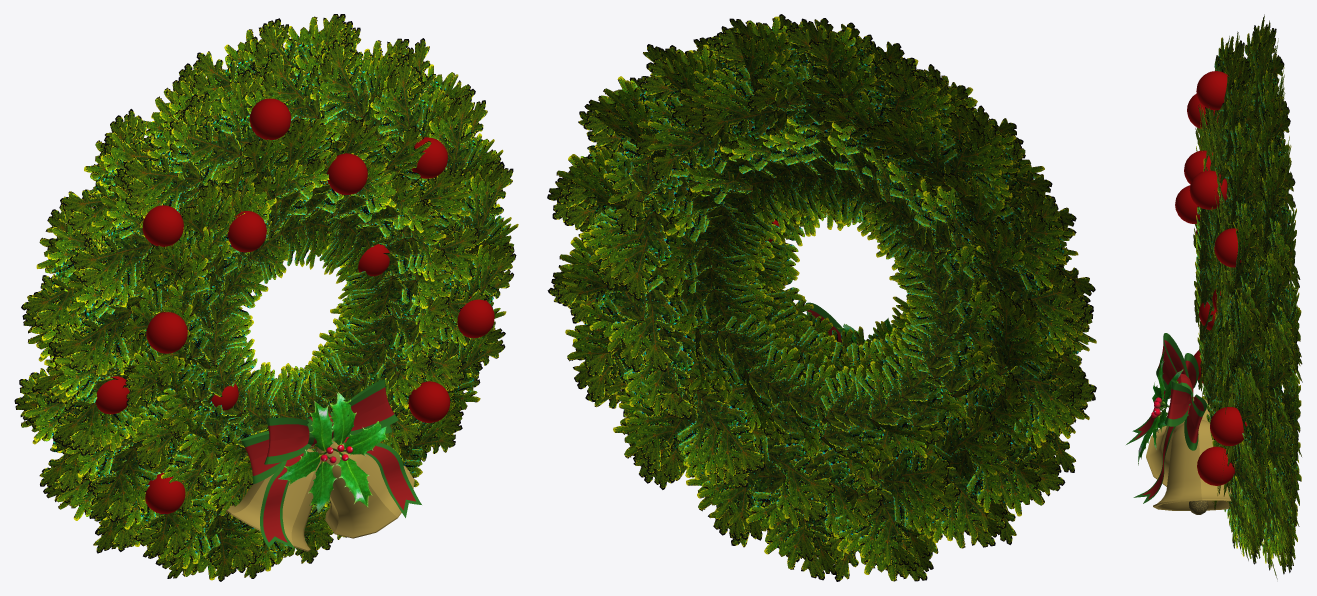
File: Wreath.dae
The picture shows the model from 3 angles, left to right: view 1: azimuth 30°, elevation 25°; view 2: azimuth 150°, elevation 25°; view 3: azimuth 270°, elevation 25°; orthographic projection. The views are drawn at different scales.
Visible parts, largest first — view 1: leaf (×102), Component_6 (×11), Component_17 (×4), Component_21 (×2), Component_19 (×4); view 2: leaf (×115); view 3: leaf (×68), Component_6 (×9), Component_17 (×5), Component_21 (×2), Component_15 (×2), Component_19, group_6.
Part boxes in pixels (box(x1,y1,x2,y2)): leaf (×102): box(19, 14, 516, 581); Component_6 (×11): box(95, 98, 494, 513); Component_17 (×4): box(231, 437, 414, 551); Component_21 (×2): box(278, 392, 388, 512); Component_19 (×4): box(260, 437, 421, 548); leaf (×115): box(562, 18, 1096, 581); leaf (×68): box(1199, 36, 1302, 572); Component_6 (×9): box(1175, 71, 1247, 485); Component_17 (×5): box(1146, 397, 1231, 510); Component_21 (×2): box(1138, 349, 1183, 465); Component_15 (×2): box(1164, 340, 1189, 419); Component_19: box(1133, 403, 1190, 503); group_6: box(1189, 500, 1208, 514).
Size of the model in its own units: 32.29 by 10.16 by 32.79.
